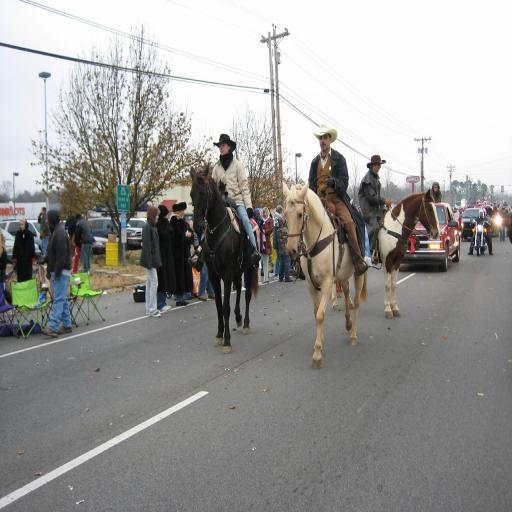horse: (280, 178, 370, 371), (331, 187, 440, 319), (188, 164, 260, 355)
